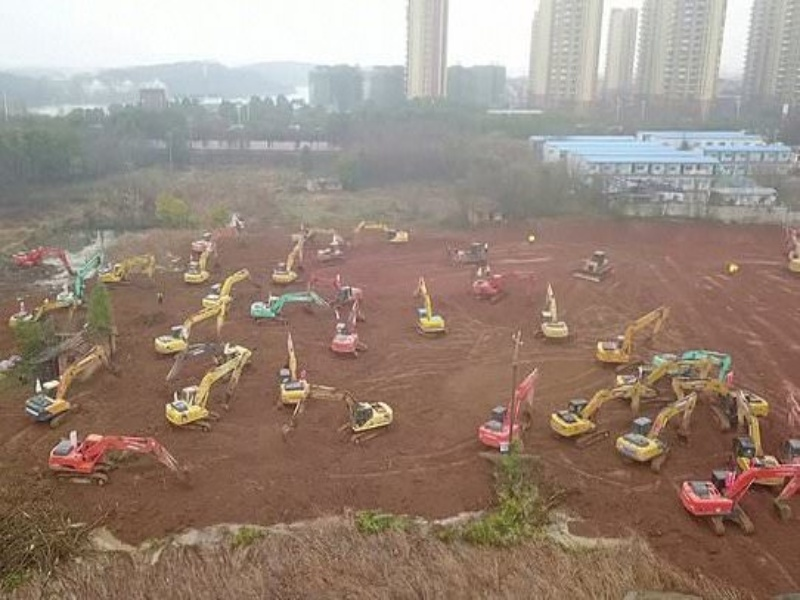excavator: (44, 431, 198, 490), (678, 462, 798, 533), (21, 347, 115, 431), (282, 385, 393, 447), (612, 393, 699, 472), (164, 354, 247, 432), (548, 385, 643, 449), (593, 304, 670, 375), (474, 371, 535, 455), (150, 303, 227, 361), (247, 288, 328, 332), (532, 282, 578, 347), (409, 277, 452, 343), (275, 330, 308, 408), (96, 253, 158, 290), (332, 298, 369, 358), (180, 245, 218, 289), (269, 242, 306, 287), (351, 221, 411, 246)
vehicle: (572, 251, 616, 285)
